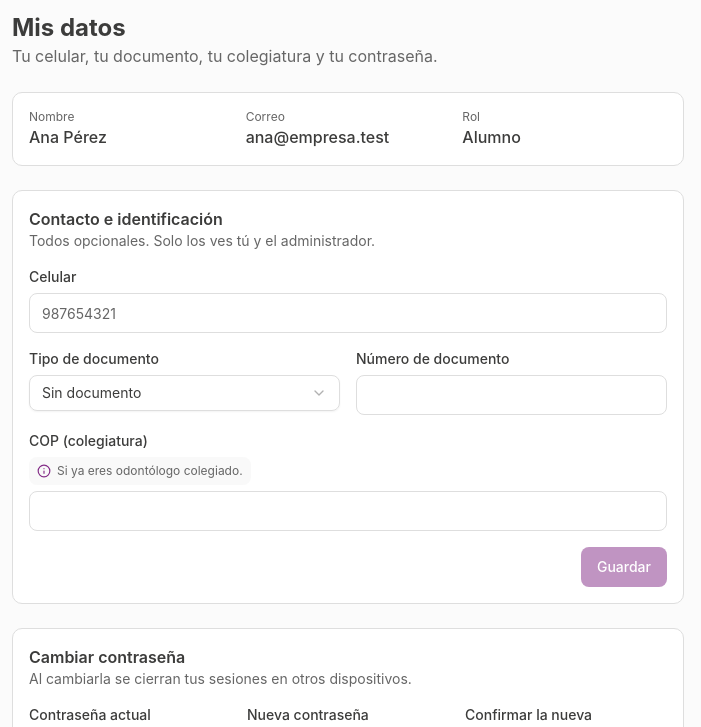
Test: users — Pantalla "Mis datos" › error junto al campo: DNI de 7 dígitos, sin enviar
The image size is (701, 727).
Click the dropdown named "Tipo de documento". click: point(92, 392)
box: [29, 375, 340, 411]
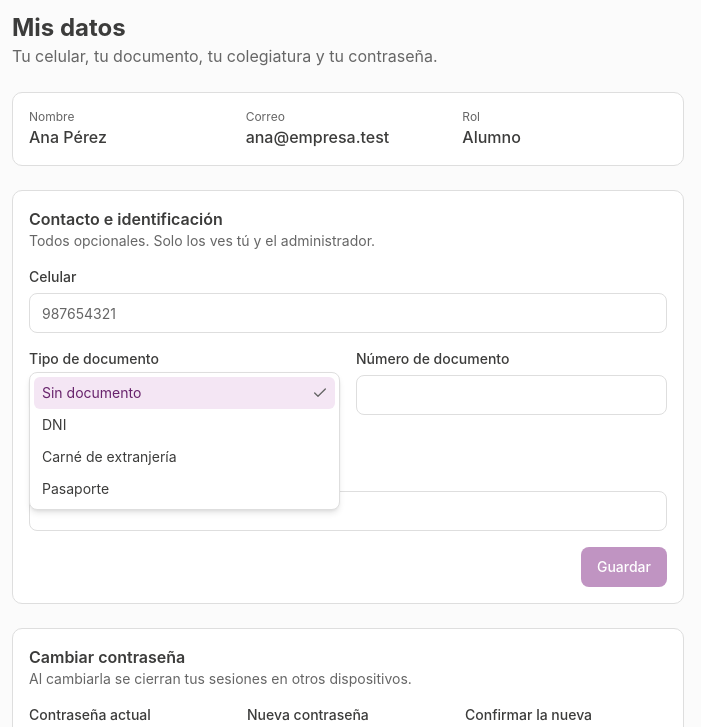
Click the option "DNI". click: point(54, 424)
box: [42, 416, 66, 433]
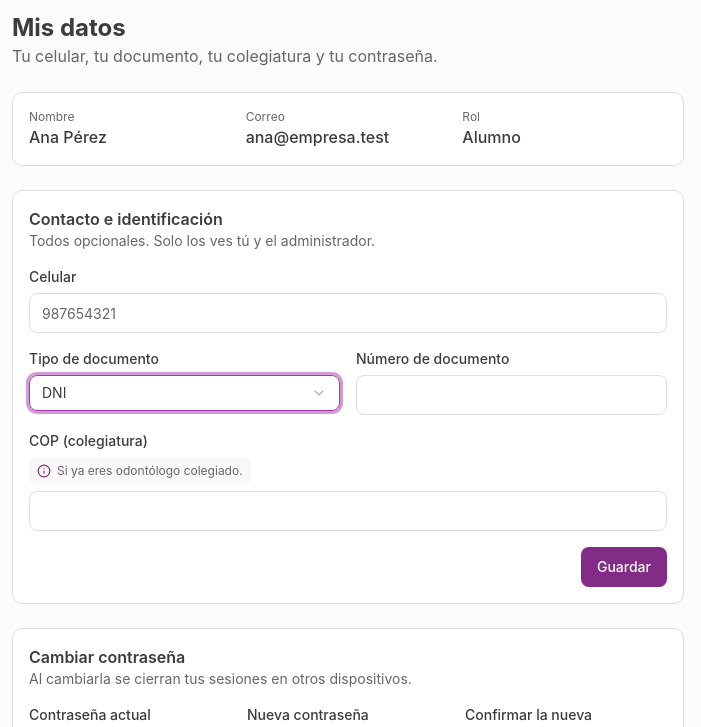
Type "7412589" into the field labelled "Número de documento". click: point(512, 395)
box: [356, 375, 667, 415]
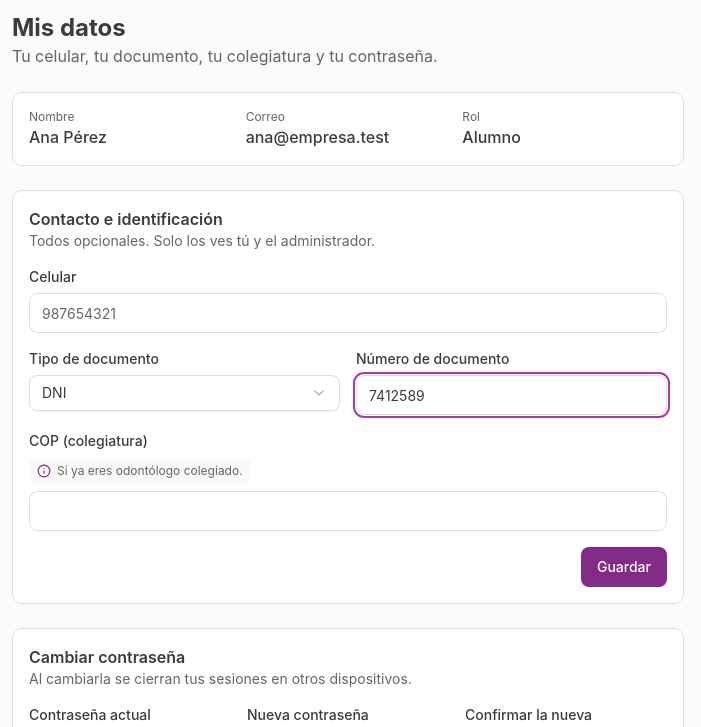
Click the button "Guardar". click: point(624, 567)
box: [581, 547, 667, 587]
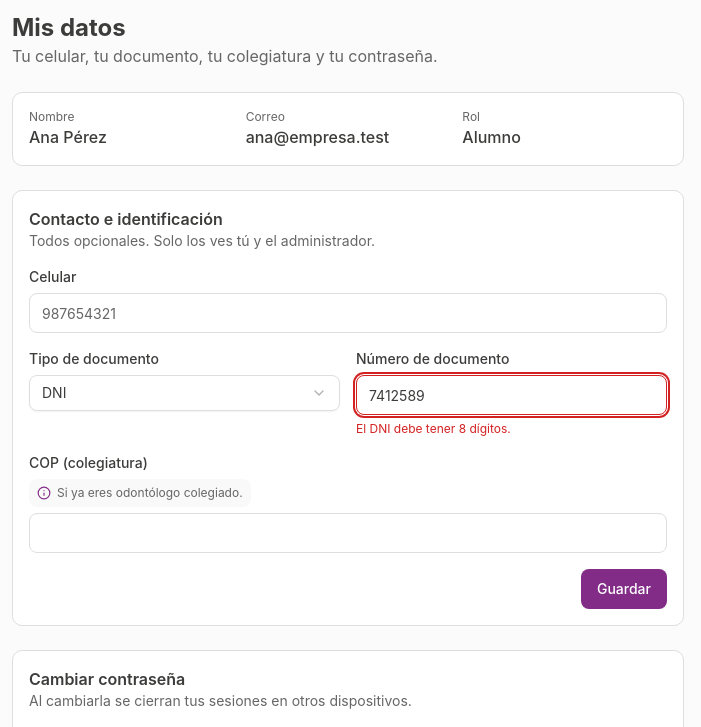
Check: the text "El DNI debe tener 8 dígitos." is shown, box [356, 421, 511, 436]
